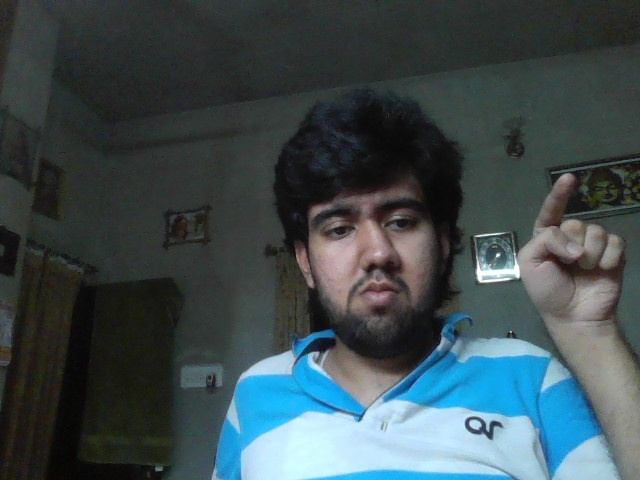You: (517, 172, 626, 321)
